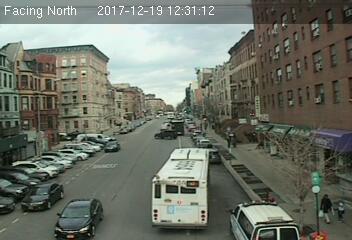bus: (149, 145, 210, 231)
car: (53, 197, 103, 238), (20, 181, 65, 210), (103, 140, 121, 151)
police: (228, 197, 302, 237)
ups: (171, 121, 184, 135)
